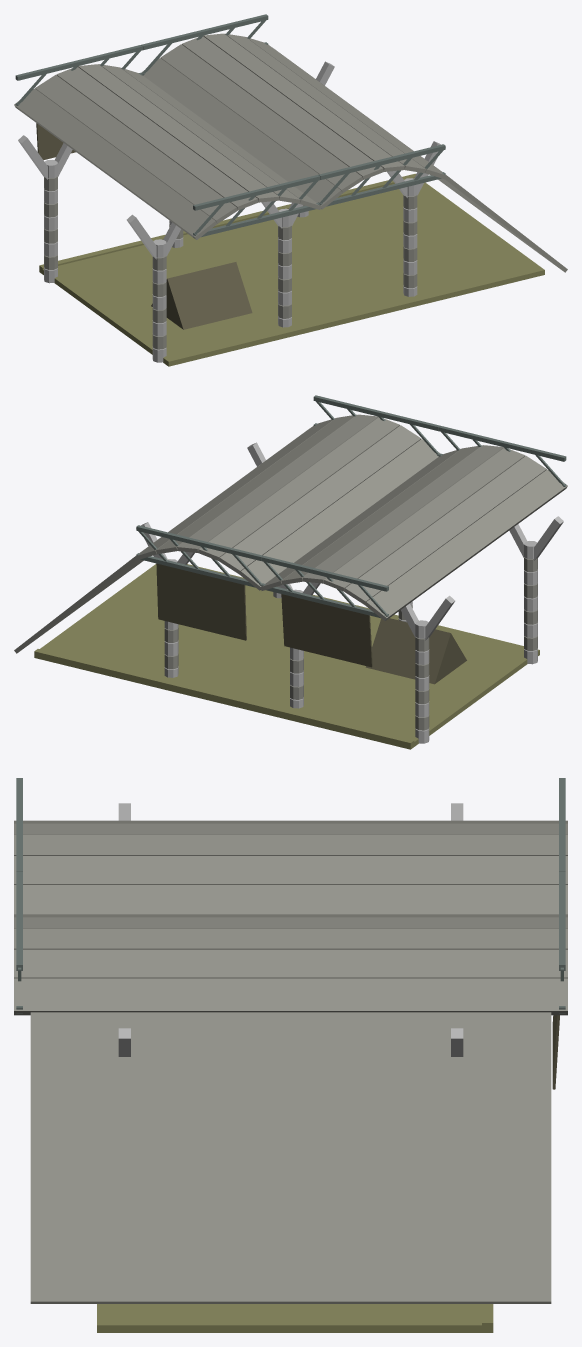
Rendered from SM_MarquesinaBus_v3_Lonas_e1_Danado_LOD0.fbx.
The picture shows the model from 3 angles, top to bottom: view 1: azimuth 30°, elevation 25°; view 2: azimuth 150°, elevation 25°; view 3: azimuth 270°, elevation 25°; orthographic projection. The views are drawn at different scales.
Visible parts, largest first — view 1: SM_marquesina_bus_v13_LOD0; view 2: SM_marquesina_bus_v13_LOD0; view 3: SM_marquesina_bus_v13_LOD0.
Boxes of the visible parts, x1,y1,x2,y2 form: SM_marquesina_bus_v13_LOD0: [14, 14, 567, 366]; SM_marquesina_bus_v13_LOD0: [14, 395, 567, 749]; SM_marquesina_bus_v13_LOD0: [14, 778, 567, 1332].
Size of the model in its own units: 13.03 by 5.46 by 10.
